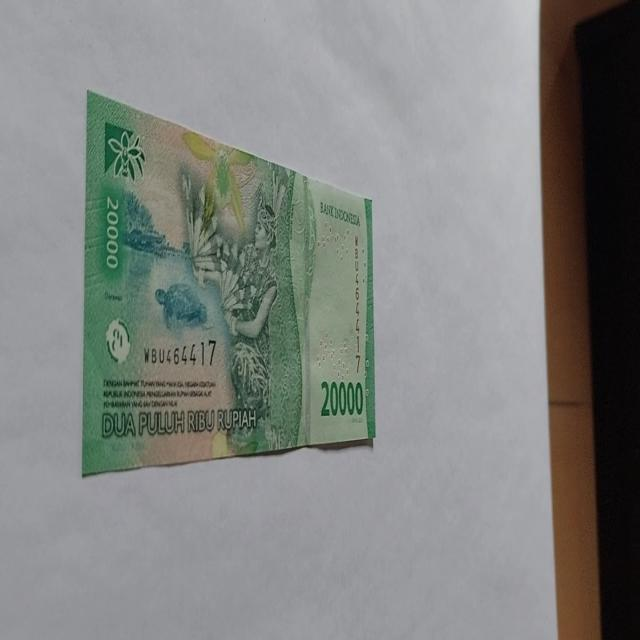dua puluh ribu rupiah: (81, 88, 376, 476), (178, 142, 316, 455)
